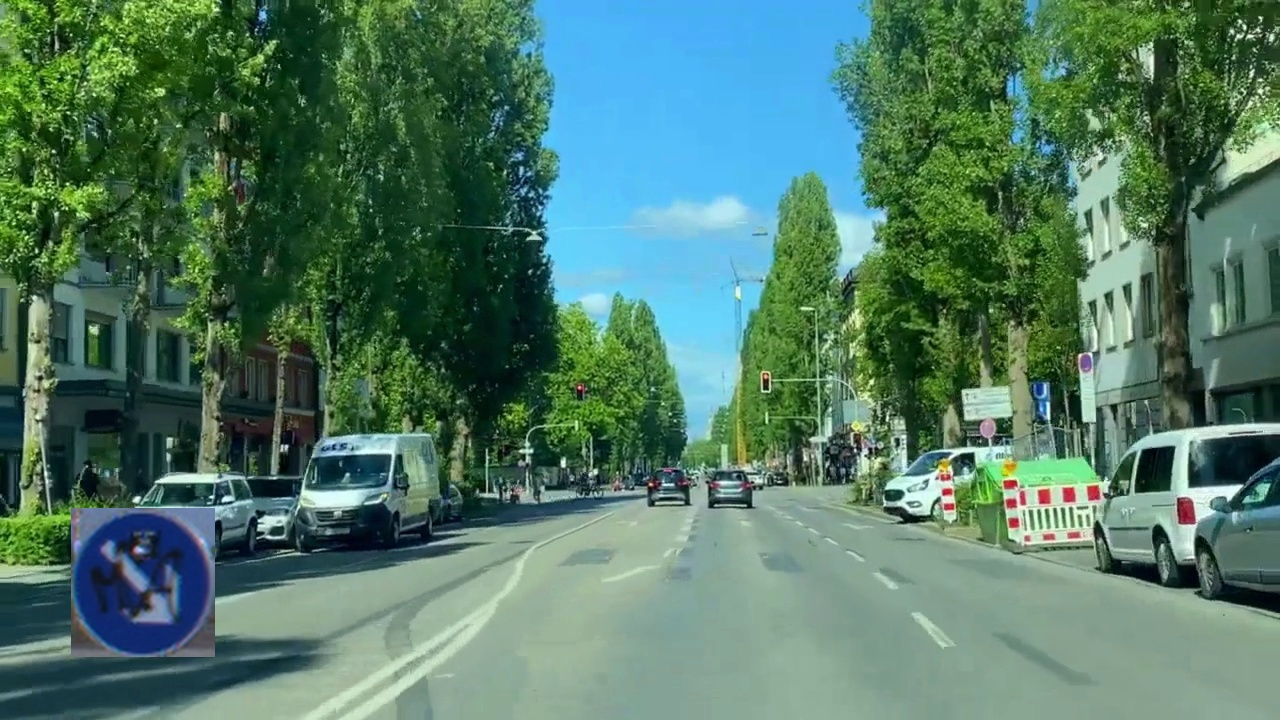Keep right: (71, 508, 215, 657)
